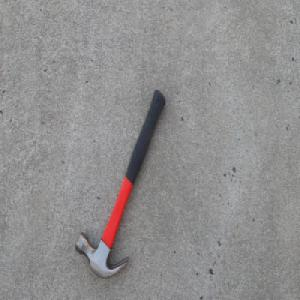Hammer: (74, 87, 166, 280)
